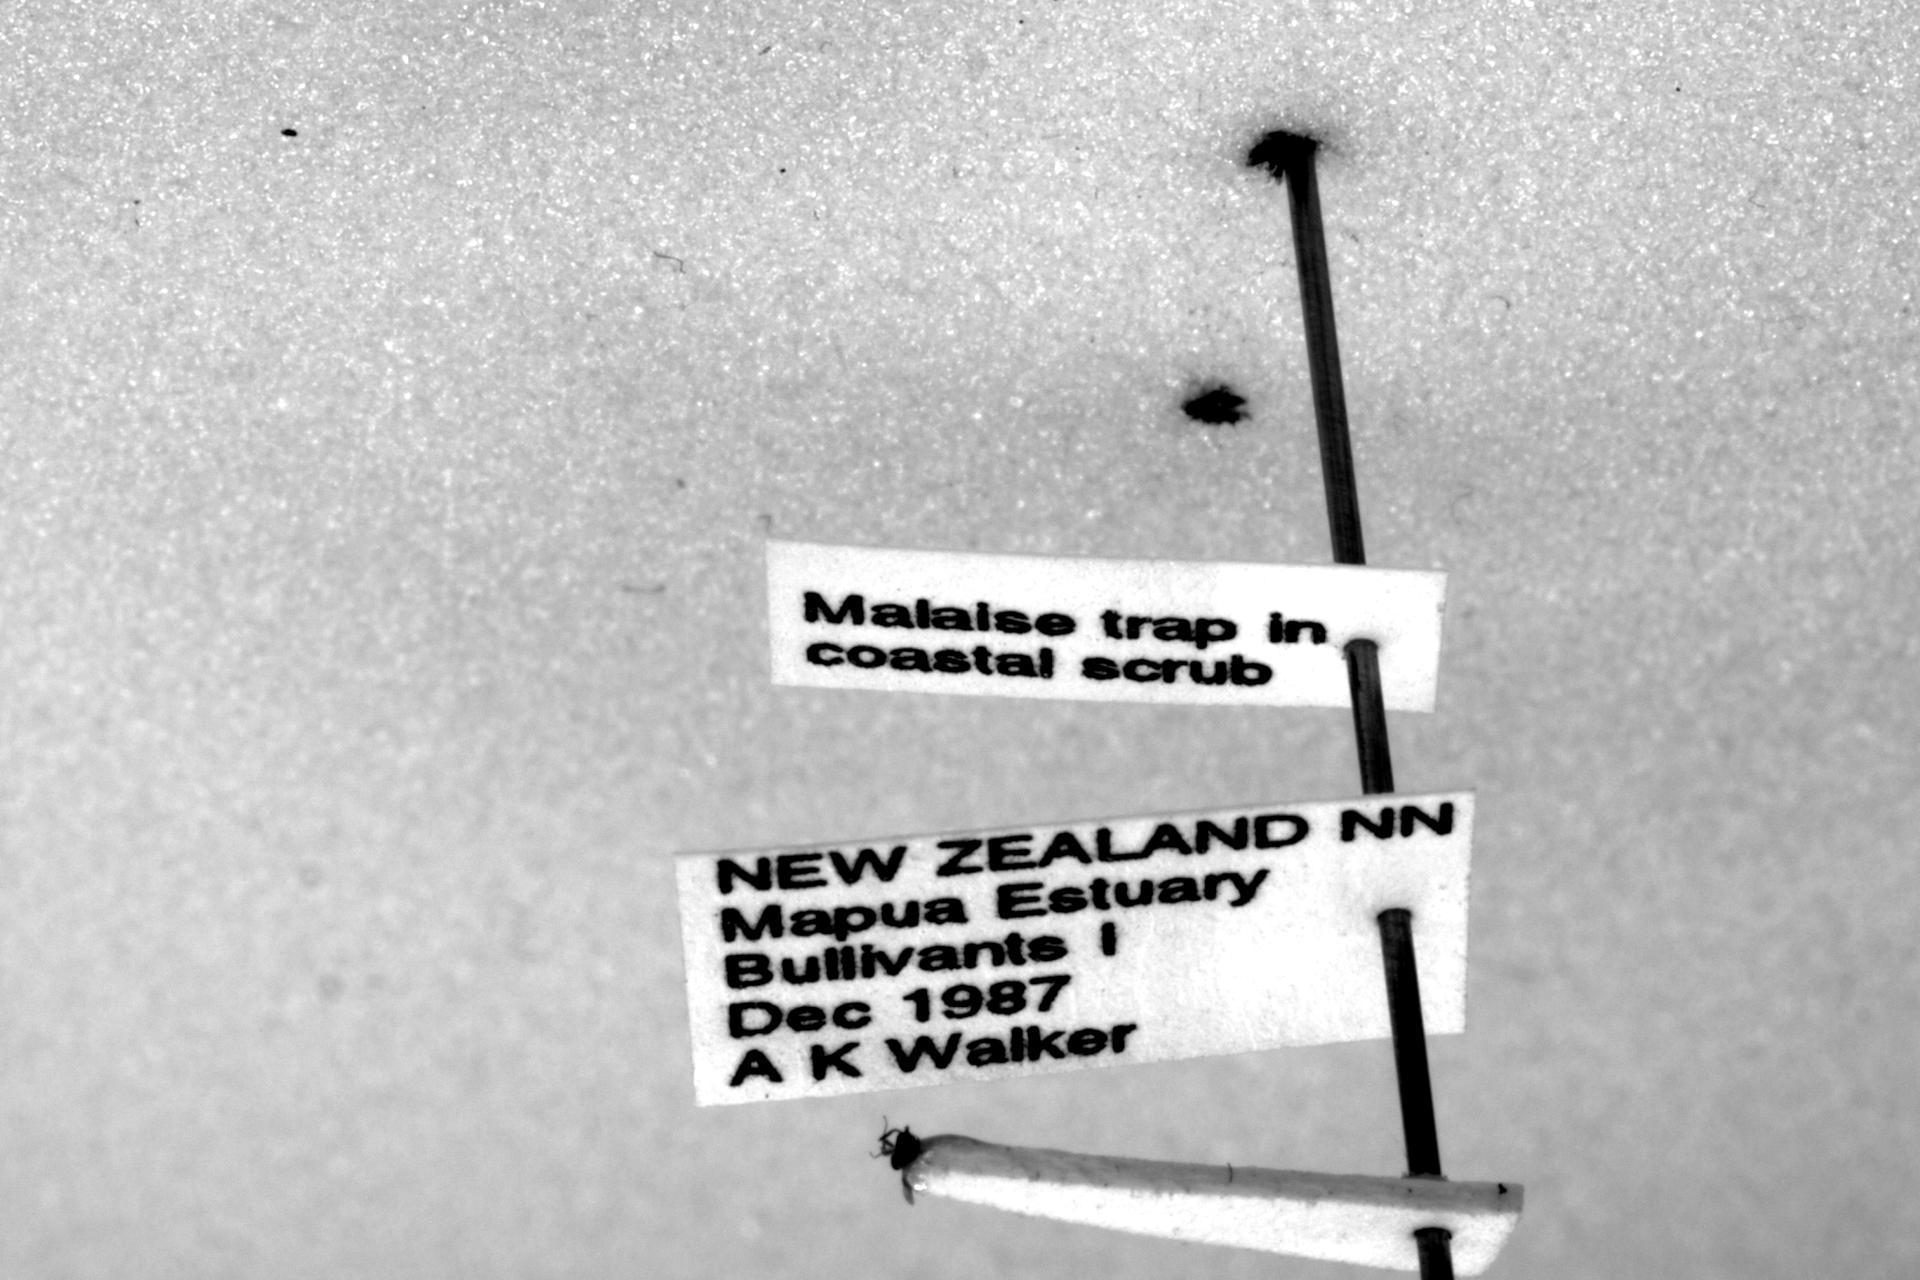typed_label: (674, 791, 1474, 1106), (769, 540, 1447, 713)
